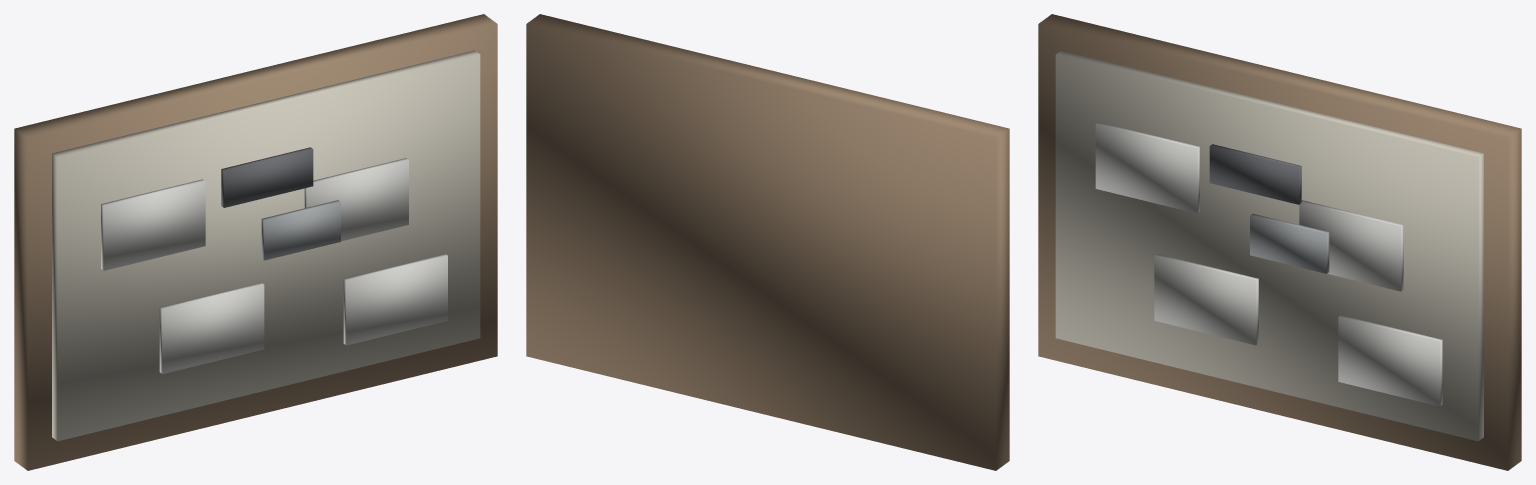
The model's file is safety_station_board__weathered.glb.
3 views of the same model, side by side, from view 1: azimuth 30°, elevation 25°; view 2: azimuth 150°, elevation 25°; view 3: azimuth 330°, elevation 25° (orthographic).
Visible parts, largest first — view 1: world; view 2: world; view 3: world.
Boxes of the visible parts, x1,y1,x2,y2 form: world: [14, 14, 497, 470]; world: [526, 14, 1009, 470]; world: [1038, 14, 1521, 470].
Bounding box in the file's own units: 1.2 × 0.8118 × 0.115.
